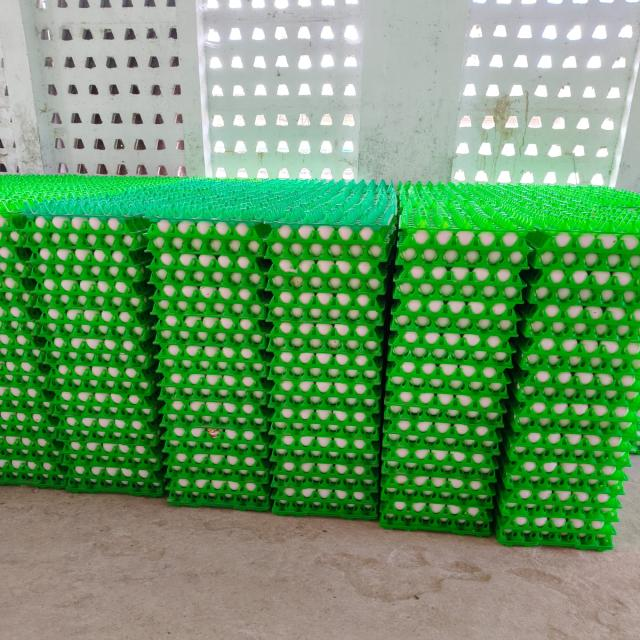egg_tray: (497, 232, 639, 548), (381, 228, 527, 534), (30, 216, 162, 494), (149, 220, 270, 510), (268, 258, 387, 518), (499, 356, 637, 547), (499, 357, 637, 548), (499, 369, 637, 544), (381, 351, 506, 534), (150, 220, 266, 404), (390, 246, 525, 402), (269, 339, 381, 518), (158, 334, 270, 509), (516, 260, 639, 417), (390, 230, 527, 366), (48, 334, 161, 494), (47, 323, 159, 484), (383, 362, 508, 506), (161, 345, 270, 508), (49, 336, 161, 494), (0, 214, 64, 488), (267, 225, 394, 354), (523, 232, 639, 373), (497, 428, 630, 546), (381, 407, 503, 534), (392, 229, 527, 343), (0, 218, 57, 484), (386, 306, 516, 421), (52, 364, 162, 494), (381, 416, 501, 534), (380, 421, 501, 534), (384, 360, 506, 472), (32, 226, 151, 340), (271, 397, 380, 517), (268, 300, 383, 410), (267, 225, 394, 324), (271, 403, 380, 518), (149, 220, 267, 324), (157, 328, 269, 437), (271, 407, 379, 517), (271, 408, 379, 517), (385, 332, 510, 424), (26, 216, 148, 309), (163, 404, 270, 510), (531, 232, 639, 337), (163, 405, 270, 510), (388, 313, 515, 401), (163, 403, 269, 508), (31, 231, 151, 323), (43, 310, 156, 403), (504, 401, 637, 480), (151, 250, 266, 339), (264, 182, 395, 260), (269, 350, 381, 440), (41, 308, 155, 396), (266, 181, 396, 256), (386, 333, 512, 410), (495, 476, 623, 549), (383, 398, 505, 474), (399, 182, 530, 251), (57, 411, 163, 496), (517, 303, 639, 376), (505, 422, 635, 490), (33, 248, 153, 321), (510, 366, 636, 435), (269, 282, 383, 355), (389, 330, 514, 395), (58, 419, 163, 496), (527, 236, 639, 308), (267, 258, 389, 324), (268, 181, 396, 243), (519, 304, 639, 370), (147, 220, 266, 286), (34, 261, 153, 324), (151, 254, 266, 319), (517, 314, 639, 374), (2, 373, 67, 485), (386, 364, 506, 424), (0, 216, 42, 382), (59, 430, 163, 496), (0, 174, 158, 217), (271, 402, 380, 463), (499, 460, 624, 513), (165, 426, 270, 489), (394, 262, 524, 312), (272, 458, 378, 519), (272, 458, 377, 519), (154, 296, 268, 352), (266, 214, 396, 262), (156, 339, 267, 395), (166, 451, 270, 510), (48, 364, 157, 420), (266, 227, 395, 274), (31, 248, 148, 299), (397, 226, 529, 271), (165, 426, 269, 483), (0, 397, 65, 488), (0, 219, 41, 362), (147, 219, 268, 267), (159, 360, 271, 411), (32, 247, 148, 296), (57, 416, 161, 469), (34, 276, 153, 322), (392, 298, 518, 340), (387, 360, 510, 403), (514, 368, 639, 410), (267, 221, 395, 262), (380, 490, 493, 536), (0, 326, 51, 426), (380, 492, 493, 536), (271, 474, 378, 520), (162, 393, 270, 437), (24, 213, 148, 251), (0, 306, 48, 402), (25, 214, 148, 251), (270, 375, 381, 416), (389, 332, 514, 368), (150, 250, 268, 288), (525, 269, 639, 308), (0, 350, 52, 434), (496, 513, 614, 550), (530, 232, 639, 272), (0, 422, 65, 488), (154, 312, 268, 349), (44, 333, 156, 369), (39, 307, 154, 342), (269, 350, 383, 385), (268, 291, 385, 325), (268, 322, 383, 356), (385, 417, 501, 450), (65, 460, 164, 497), (167, 476, 270, 511), (0, 214, 33, 313), (0, 350, 51, 413), (534, 234, 636, 260), (0, 303, 43, 362), (0, 303, 43, 361), (0, 173, 34, 218), (0, 211, 25, 260), (0, 212, 24, 261), (424, 231, 475, 246), (522, 431, 576, 442), (61, 217, 124, 226), (401, 230, 427, 249), (386, 461, 423, 472), (500, 232, 523, 249), (477, 232, 500, 246), (599, 433, 620, 446), (422, 360, 447, 370), (65, 217, 100, 224), (634, 408, 639, 454), (481, 232, 496, 247), (66, 313, 92, 321), (270, 297, 282, 314), (317, 227, 339, 235), (288, 307, 303, 317), (247, 352, 262, 362), (304, 306, 321, 314), (450, 456, 466, 464), (312, 293, 332, 299), (163, 344, 177, 352), (30, 216, 41, 226), (29, 217, 41, 226), (29, 414, 42, 422), (635, 428, 639, 453), (294, 246, 304, 256), (268, 277, 275, 290), (620, 362, 629, 372), (436, 316, 447, 324), (186, 403, 196, 411), (29, 322, 37, 332), (350, 249, 360, 257), (556, 287, 571, 292), (215, 436, 224, 444), (335, 308, 345, 315), (449, 301, 463, 306), (177, 451, 189, 456), (125, 219, 140, 223), (123, 480, 129, 490), (437, 452, 445, 459), (575, 236, 583, 243), (215, 436, 224, 442), (505, 476, 512, 483), (602, 328, 610, 334), (476, 458, 484, 464), (305, 252, 314, 257), (139, 483, 148, 488), (29, 280, 35, 287), (625, 378, 632, 384), (471, 509, 477, 516), (151, 486, 157, 493), (485, 367, 493, 372), (251, 291, 257, 297), (109, 218, 118, 222), (487, 414, 493, 420), (595, 327, 600, 334), (52, 315, 59, 320), (242, 362, 250, 366), (253, 281, 261, 285), (596, 380, 604, 384), (458, 319, 466, 323), (122, 315, 127, 321), (14, 314, 21, 318), (547, 519, 554, 523), (45, 299, 50, 304), (372, 251, 377, 256), (161, 359, 169, 362), (162, 179, 169, 182), (10, 388, 17, 391), (198, 288, 201, 295), (84, 284, 91, 287), (308, 461, 315, 464), (609, 394, 613, 399), (406, 396, 410, 401), (551, 237, 556, 241), (52, 218, 57, 222), (202, 387, 211, 389), (607, 538, 610, 544), (432, 301, 441, 303), (618, 378, 622, 382), (333, 298, 337, 302), (577, 410, 581, 414), (629, 361, 633, 365), (15, 349, 23, 351), (246, 437, 251, 440), (590, 434, 595, 437), (627, 361, 632, 364), (56, 336, 61, 339), (200, 433, 205, 436), (574, 504, 579, 507), (557, 519, 562, 522), (453, 403, 458, 406), (459, 318, 462, 323), (89, 480, 94, 483), (19, 469, 26, 471), (453, 478, 460, 480), (523, 536, 527, 539), (333, 304, 337, 307), (627, 361, 631, 364), (251, 407, 257, 409), (167, 407, 171, 410), (485, 469, 489, 472), (419, 394, 421, 400), (47, 268, 51, 271), (175, 406, 178, 410), (633, 422, 636, 426), (423, 250, 427, 253), (394, 405, 397, 409), (319, 476, 322, 480), (103, 488, 109, 490), (471, 303, 482, 304), (226, 362, 231, 364), (610, 444, 615, 446), (584, 505, 589, 507), (81, 423, 84, 426), (220, 386, 223, 389), (583, 290, 592, 291), (6, 401, 9, 404), (12, 393, 15, 396), (232, 293, 235, 296), (449, 394, 452, 397), (31, 281, 34, 284), (521, 496, 530, 497), (63, 398, 71, 399), (124, 312, 128, 314), (586, 468, 590, 470), (315, 254, 319, 256), (290, 182, 294, 184), (88, 318, 92, 320), (396, 307, 398, 311), (77, 224, 81, 226), (470, 360, 473, 362), (29, 292, 31, 295), (558, 404, 561, 406), (13, 464, 15, 467), (401, 237, 403, 240), (633, 292, 636, 294), (423, 398, 426, 400), (3, 327, 5, 330), (52, 325, 54, 328), (498, 243, 500, 246), (496, 402, 498, 405), (290, 182, 293, 184), (336, 345, 339, 347), (463, 318, 466, 320), (137, 223, 139, 226), (78, 478, 80, 481), (154, 478, 156, 481), (66, 424, 68, 426), (549, 323, 551, 325), (515, 542, 519, 543), (338, 294, 340, 296), (281, 293, 283, 295), (523, 443, 525, 445), (433, 456, 435, 458), (52, 369, 54, 371), (572, 392, 574, 394), (185, 260, 187, 262), (70, 318, 74, 319), (54, 218, 56, 220), (31, 284, 33, 286), (439, 368, 441, 370), (58, 482, 59, 486), (292, 345, 294, 347), (270, 273, 271, 276), (598, 498, 601, 499), (354, 232, 357, 233), (5, 476, 6, 479), (203, 303, 206, 304), (541, 380, 544, 381), (94, 285, 97, 286), (126, 221, 129, 222), (76, 423, 77, 425), (462, 360, 464, 361), (598, 543, 600, 544), (325, 311, 326, 313), (3, 420, 4, 422), (3, 394, 5, 395), (52, 368, 54, 369), (602, 507, 604, 508), (617, 359, 619, 360), (47, 283, 49, 284), (225, 364, 226, 366), (325, 405, 327, 406), (318, 464, 319, 466), (113, 489, 115, 490), (221, 385, 222, 386), (634, 323, 635, 324), (547, 321, 548, 322), (534, 542, 535, 543), (631, 411, 632, 412), (47, 367, 48, 368), (176, 303, 177, 304), (98, 307, 99, 308), (485, 407, 486, 408), (394, 411, 395, 412), (156, 482, 157, 483), (586, 328, 589, 328), (569, 321, 570, 321), (200, 434, 201, 434), (57, 252, 57, 252), (531, 332, 532, 332), (359, 232, 362, 232), (284, 292, 286, 292), (173, 179, 174, 179), (564, 283, 566, 283), (247, 350, 248, 350), (132, 399, 134, 399), (196, 288, 198, 288), (630, 398, 630, 399), (83, 359, 85, 359), (36, 429, 36, 430), (182, 354, 183, 354), (109, 270, 110, 270), (354, 427, 354, 428), (523, 367, 523, 368), (383, 490, 384, 490), (143, 476, 144, 476), (450, 501, 450, 502), (419, 485, 419, 486), (458, 303, 459, 303), (478, 458, 478, 459)
